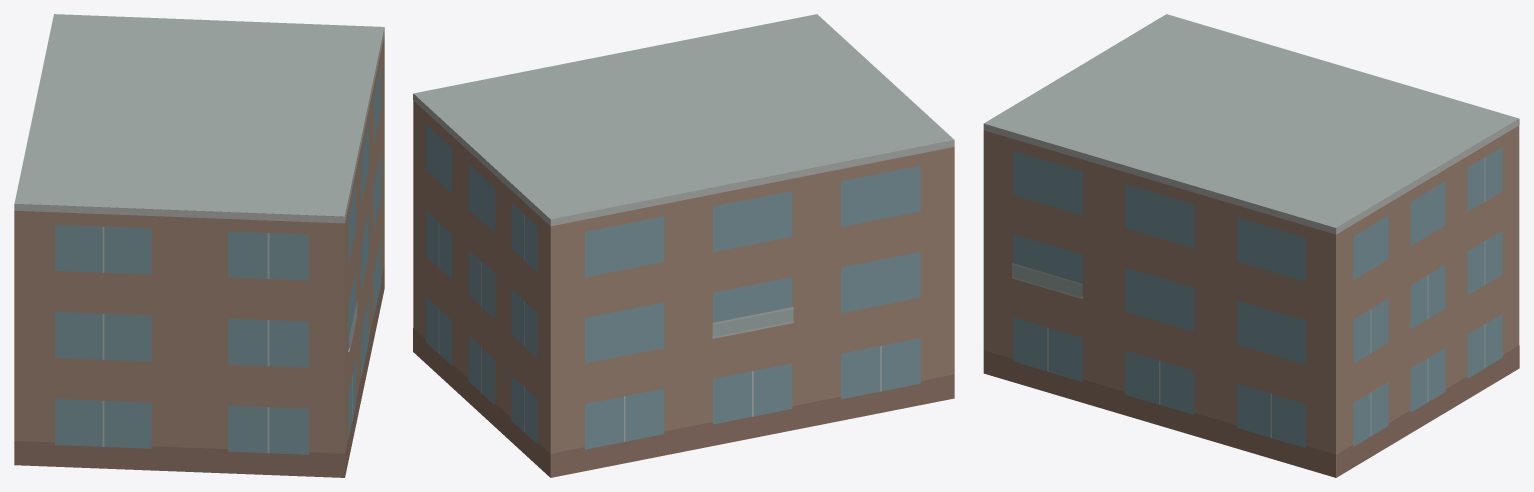
Rendered from survey-upis-32931832.glb.
3 views of the same model, side by side, from view 1: azimuth 30°, elevation 25°; view 2: azimuth 150°, elevation 25°; view 3: azimuth 270°, elevation 25° (orthographic). The views are drawn at different scales.
Parts seen in each view (by area): view 1: survey-upis-32931832.tmp; view 2: survey-upis-32931832.tmp; view 3: survey-upis-32931832.tmp.
Boxes of the visible parts, x1=… form: survey-upis-32931832.tmp: x1=14, y1=14, x2=384, y2=477; survey-upis-32931832.tmp: x1=413, y1=14, x2=954, y2=477; survey-upis-32931832.tmp: x1=983, y1=14, x2=1519, y2=477.
Bounding box in the file's own units: 16.82 × 9.15 × 17.79.
